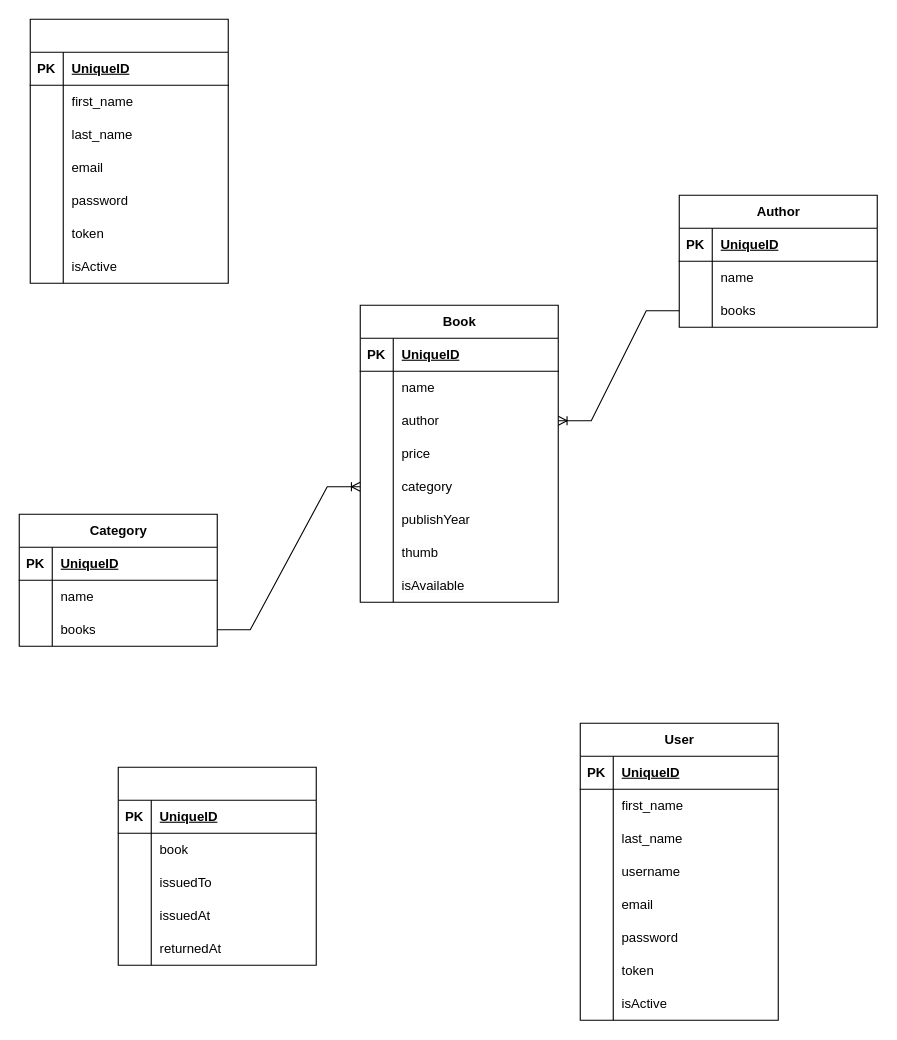
The diagram is 897 pixels wide and 1040 high, and some of its shapes have lost their labels. The shapes that lost their labels are listed below. From the top down, each one's box as (x1, y1, x2, y2) in pixels, then its label:
(29, 18, 228, 283): Admin
(117, 766, 316, 965): History
